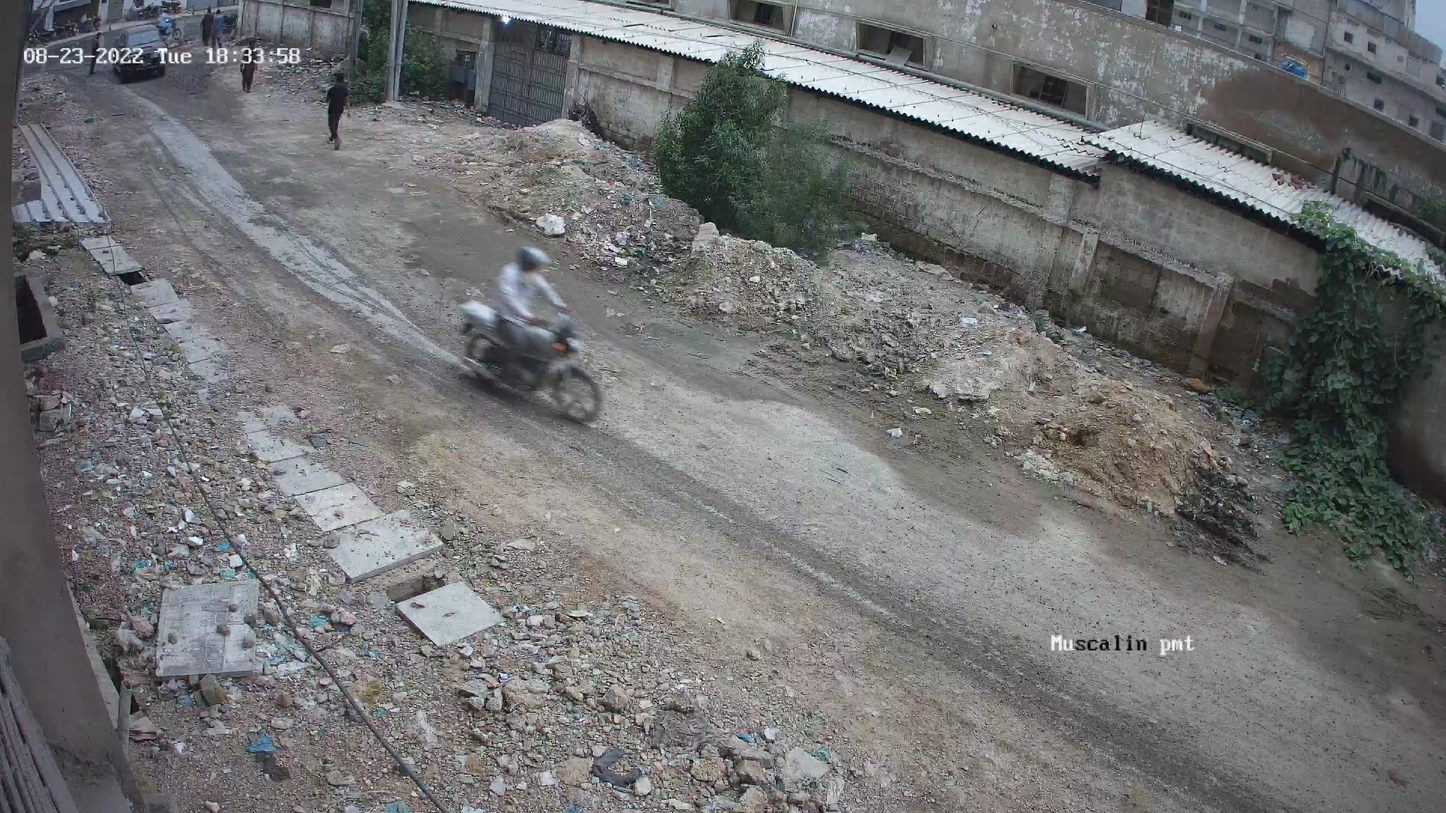person: (502, 242, 556, 368), (321, 73, 346, 146), (200, 7, 221, 44), (246, 39, 259, 89)
